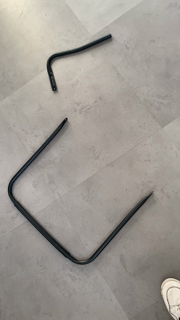C pipe: (8, 117, 158, 267)
L pipe: (47, 33, 117, 95)
